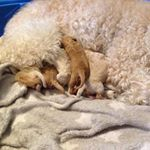puppy: (56, 30, 91, 97)
